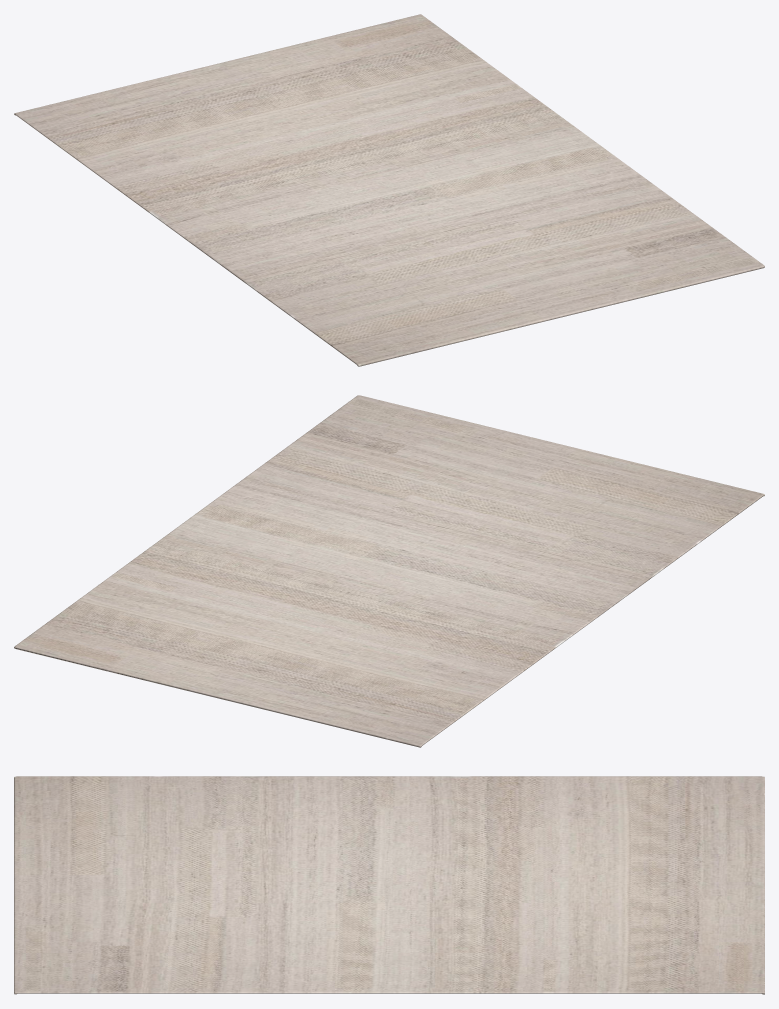
Rendered from 26 - BRÖNDEN Rug, low pile - handmade beige 133x195 cm.glb.
3 views of the same model, one above another, from view 1: azimuth 30°, elevation 25°; view 2: azimuth 150°, elevation 25°; view 3: azimuth 270°, elevation 25° (orthographic). The views are drawn at different scales.
Parts seen in each view (by area): view 1: 30532931_rug_low_pile; view 2: 30532931_rug_low_pile; view 3: 30532931_rug_low_pile.
Part boxes in pixels (x1,y1,x2,y2): 30532931_rug_low_pile: (14,14,764,366); 30532931_rug_low_pile: (14,395,764,747); 30532931_rug_low_pile: (14,776,764,994).
Bounding box in the file's own units: 1.33 × 0.00726 × 1.95.
Materials: 1 (1 with a texture image).
